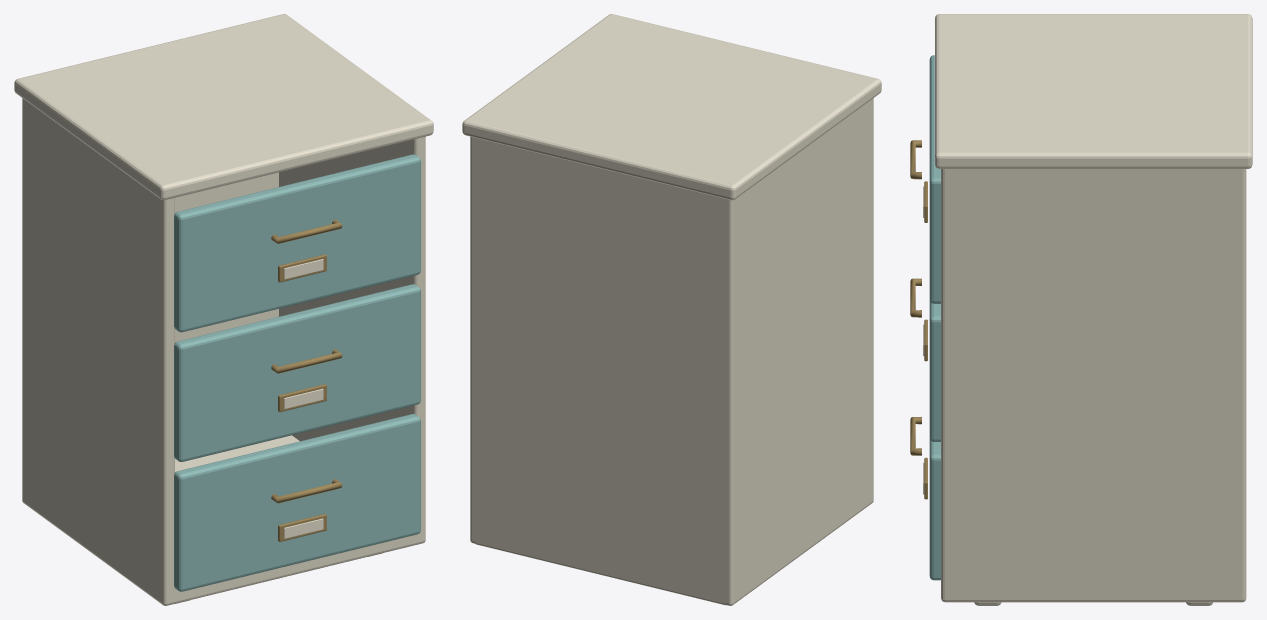
Rendered from cabinet-2.glb.
The picture shows the model from 3 angles, left to right: view 1: azimuth 30°, elevation 25°; view 2: azimuth 150°, elevation 25°; view 3: azimuth 270°, elevation 25°; orthographic projection. The views are drawn at different scales.
Visible parts, largest first — view 1: Cabinet side, Cabinet top, Drawer front.001, Drawer front.002, Drawer front, Cabinet side.001, Cabinet base, Cabinet back; view 2: Cabinet back, Cabinet side, Cabinet top, Cabinet side.001, Cabinet base; view 3: Cabinet side.001, Cabinet top, Drawer front.002, Drawer front, Drawer front.001, Cabinet back, Cabinet side.
Boxes of the visible parts, <box> form: Cabinet side: <box>22,79,174,605</box>; Cabinet top: <box>14,14,433,200</box>; Drawer front.001: <box>174,284,420,461</box>; Drawer front.002: <box>174,154,420,332</box>; Drawer front: <box>174,414,420,591</box>; Cabinet side.001: <box>277,17,425,544</box>; Cabinet base: <box>26,435,425,605</box>; Cabinet back: <box>29,18,281,342</box>; Cabinet back: <box>475,117,729,605</box>; Cabinet side: <box>723,78,873,605</box>; Cabinet top: <box>462,14,881,200</box>; Cabinet side.001: <box>470,17,618,543</box>; Cabinet base: <box>470,488,872,605</box>; Cabinet side.001: <box>941,147,1246,602</box>; Cabinet top: <box>935,14,1252,168</box>; Drawer front.002: <box>929,55,940,303</box>; Drawer front: <box>929,438,940,580</box>; Drawer front.001: <box>929,300,940,441</box>; Cabinet back: <box>1233,19,1243,148</box>; Cabinet side: <box>945,16,1242,19</box>.
Bounding box in the file's own units: 0.54 × 0.8295 × 0.5492.
